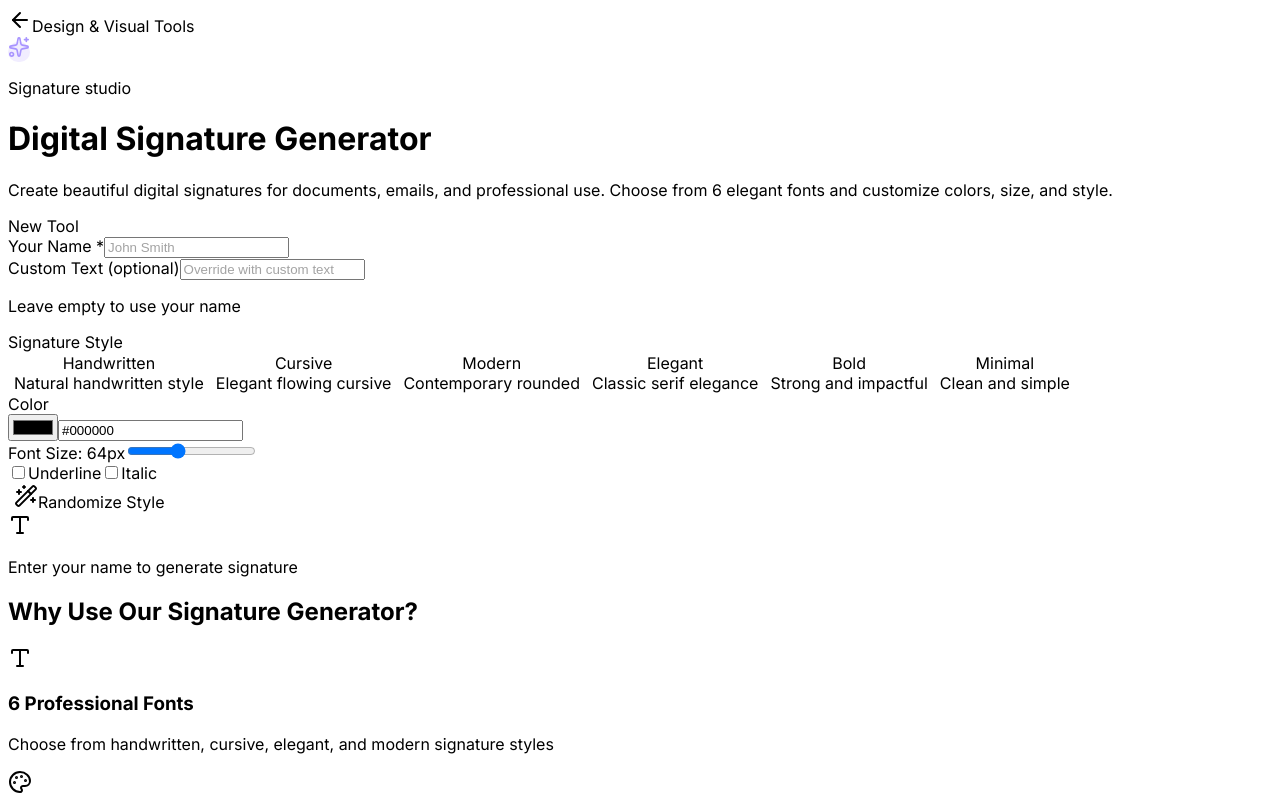
Test case: SignatureGeneratorPage › Input Interactions › shows action buttons when custom text is entered
Type "Custom Sig" into the field with placeholder "Override with custom text" at (272, 269), box x1=180 y1=259 x2=364 y2=280
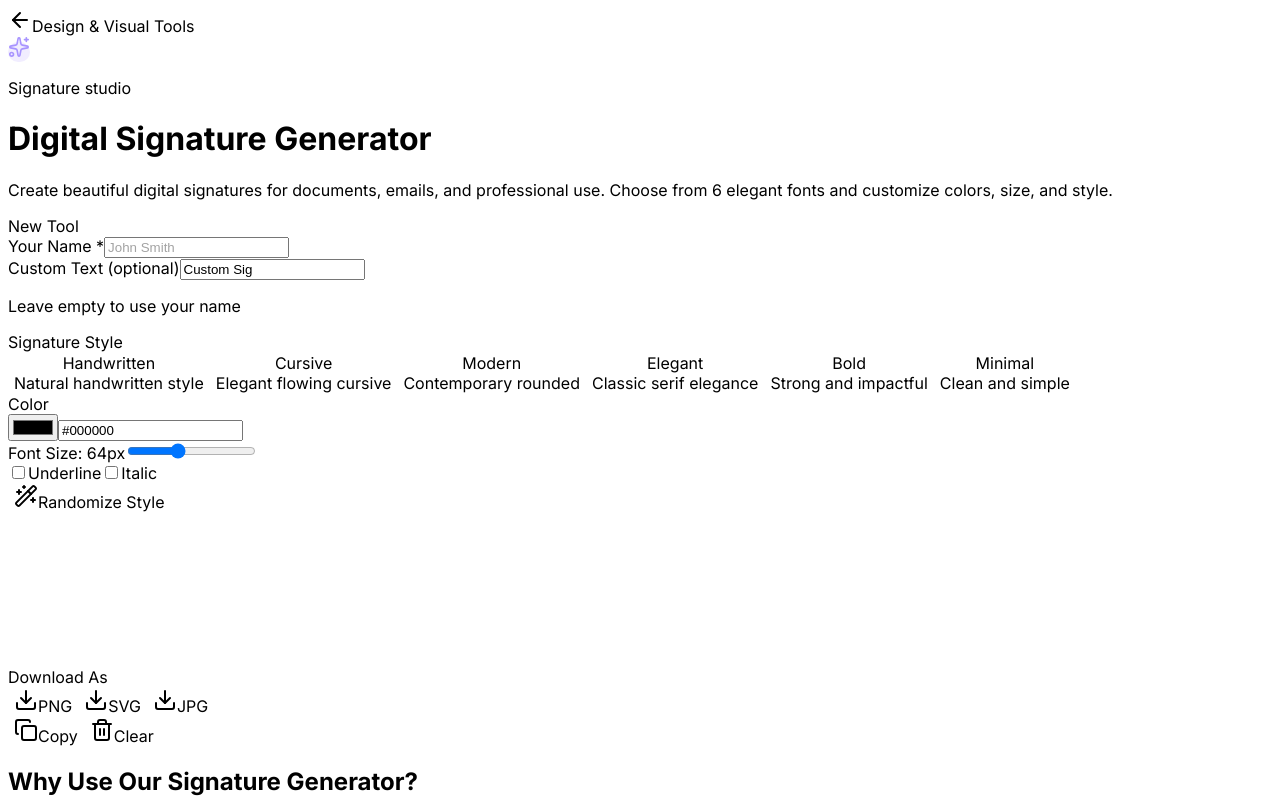
Expected: the button "PNG" is shown, x1=8 y1=687 x2=78 y2=717
